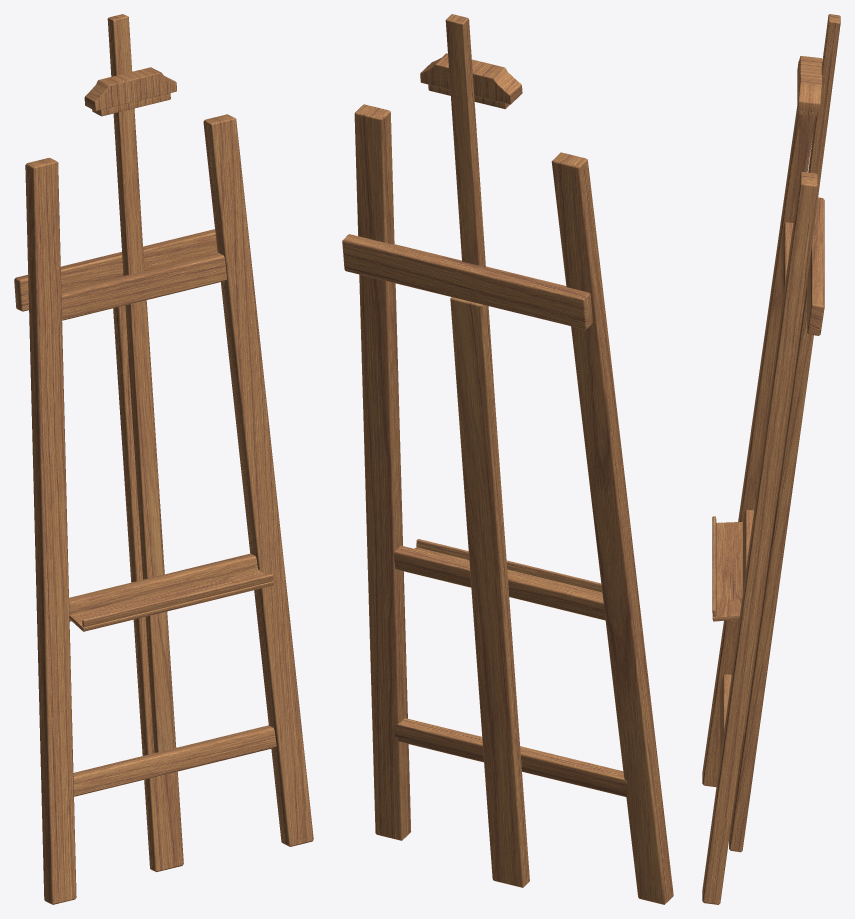
File: SM_easel_stand_folded.fbx
The picture shows the model from 3 angles, left to right: view 1: azimuth 30°, elevation 25°; view 2: azimuth 150°, elevation 25°; view 3: azimuth 270°, elevation 25°; orthographic projection. The views are drawn at different scales.
Visible parts, largest first — view 1: easel002; view 2: easel002; view 3: easel002.
Boxes of the visible parts, x1,y1,x2,y2 form: easel002: (14,14,313,904); easel002: (342,14,673,904); easel002: (702,14,840,904).
Size of the model in its own units: 26.57 by 79.03 by 11.95.
1 material, 1 textured.
